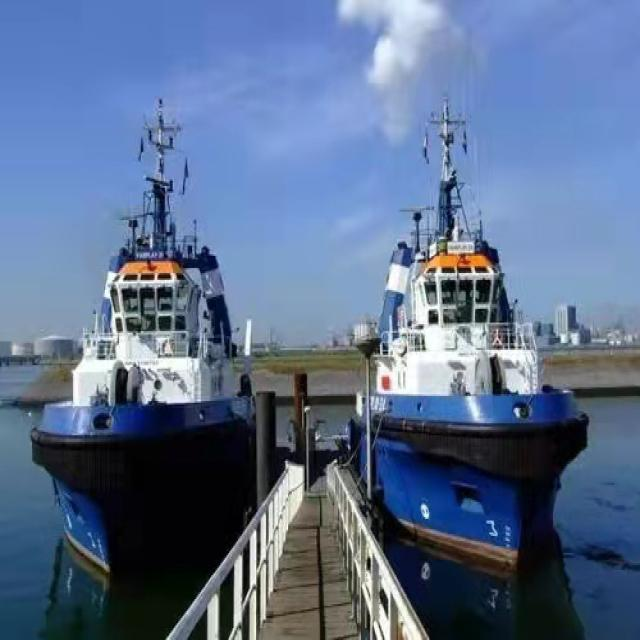houseboat: (352, 111, 588, 560), (36, 94, 264, 555)
